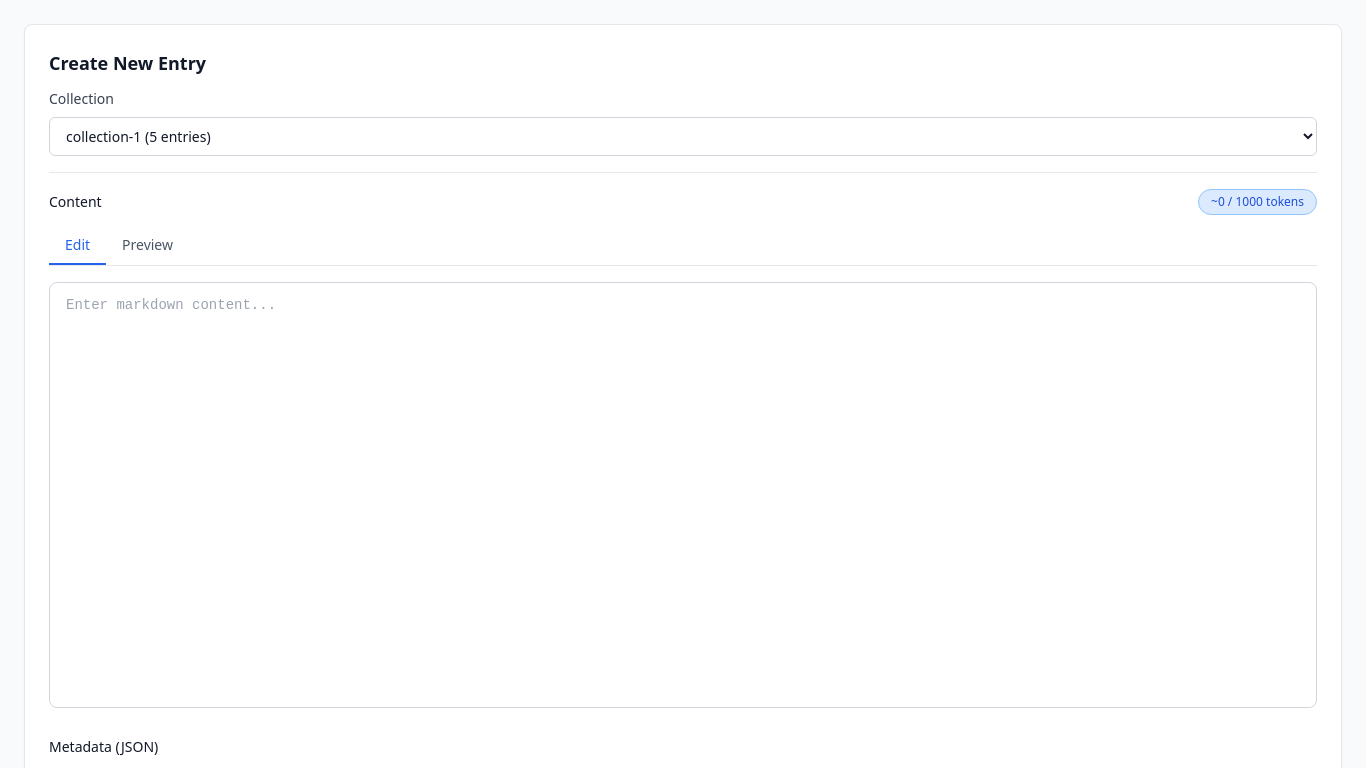
Test: ArticleEditor › State Management › should show saving state on save button during save
Type "Test content" into the text box with placeholder "Enter markdown content...".
click(683, 495); type("Test content")  # box [49,282,1317,708]
(page scrolled)
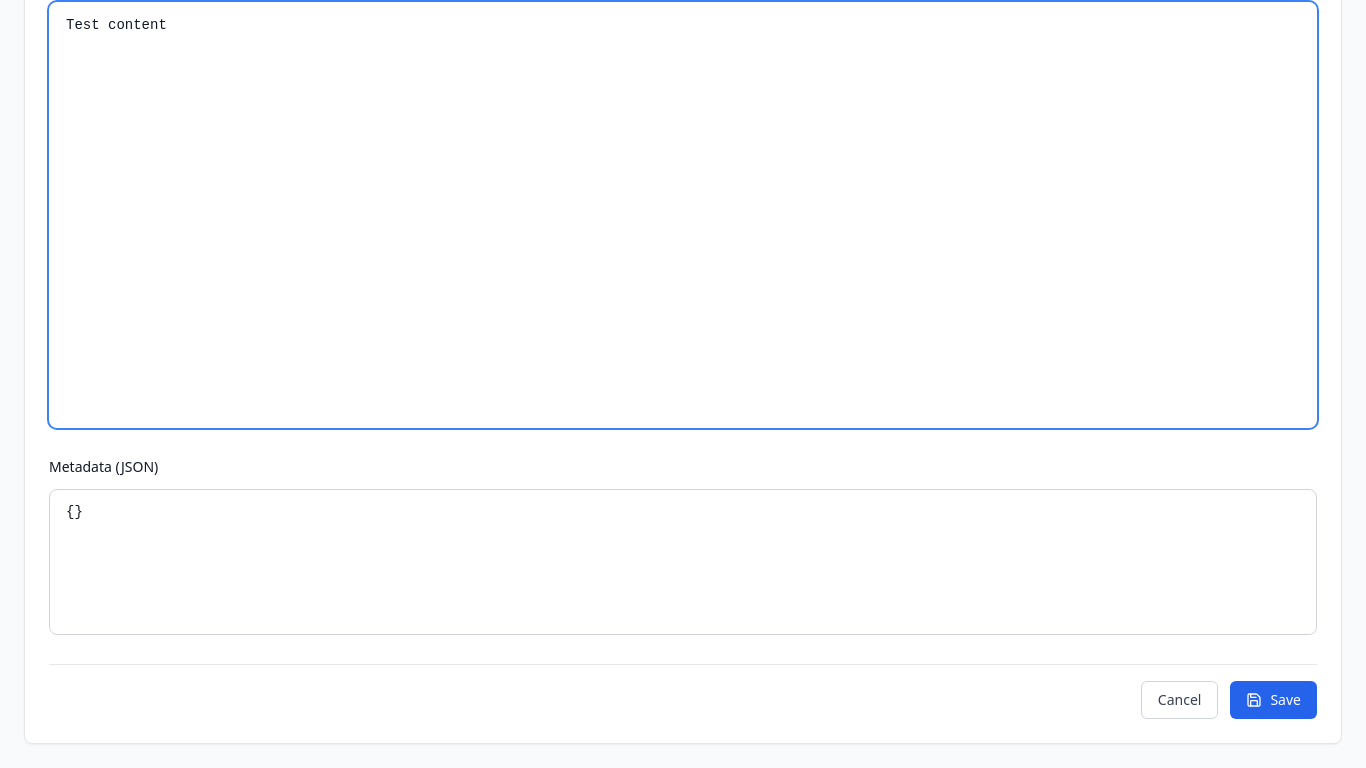
Click the button "Save".
click(1274, 700)  # box [1230,681,1317,719]
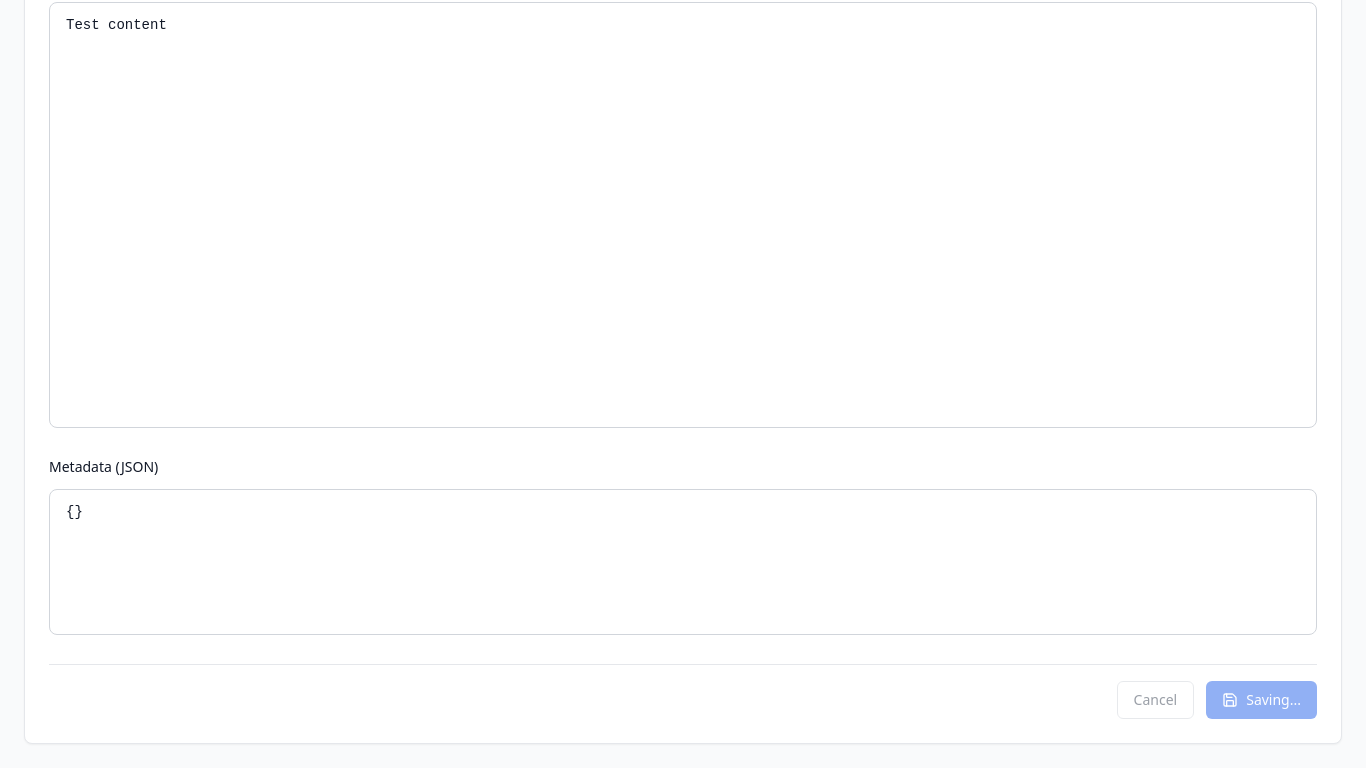
Result: the button "Saving..." is disabled at [1206,681,1317,719]
